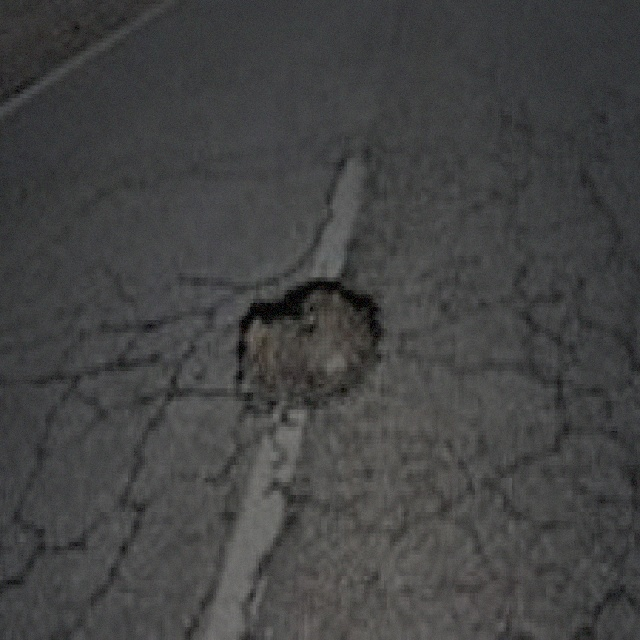pothole: (230, 273, 386, 418)
